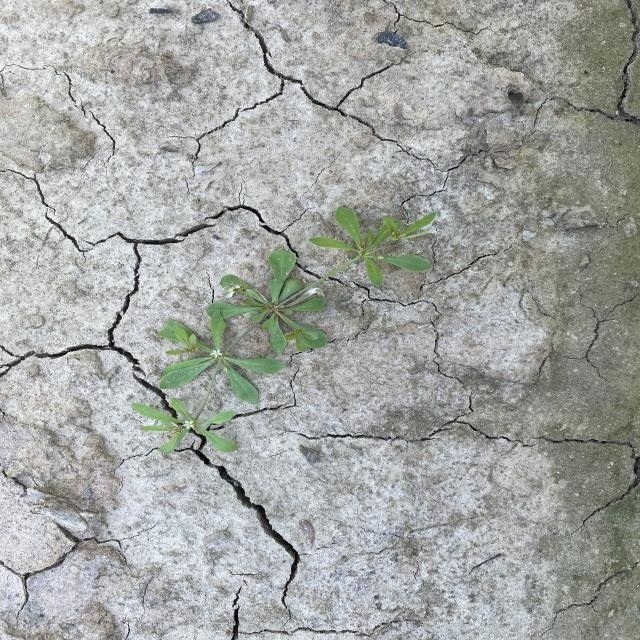Carpetweed: (128, 205, 438, 456)
